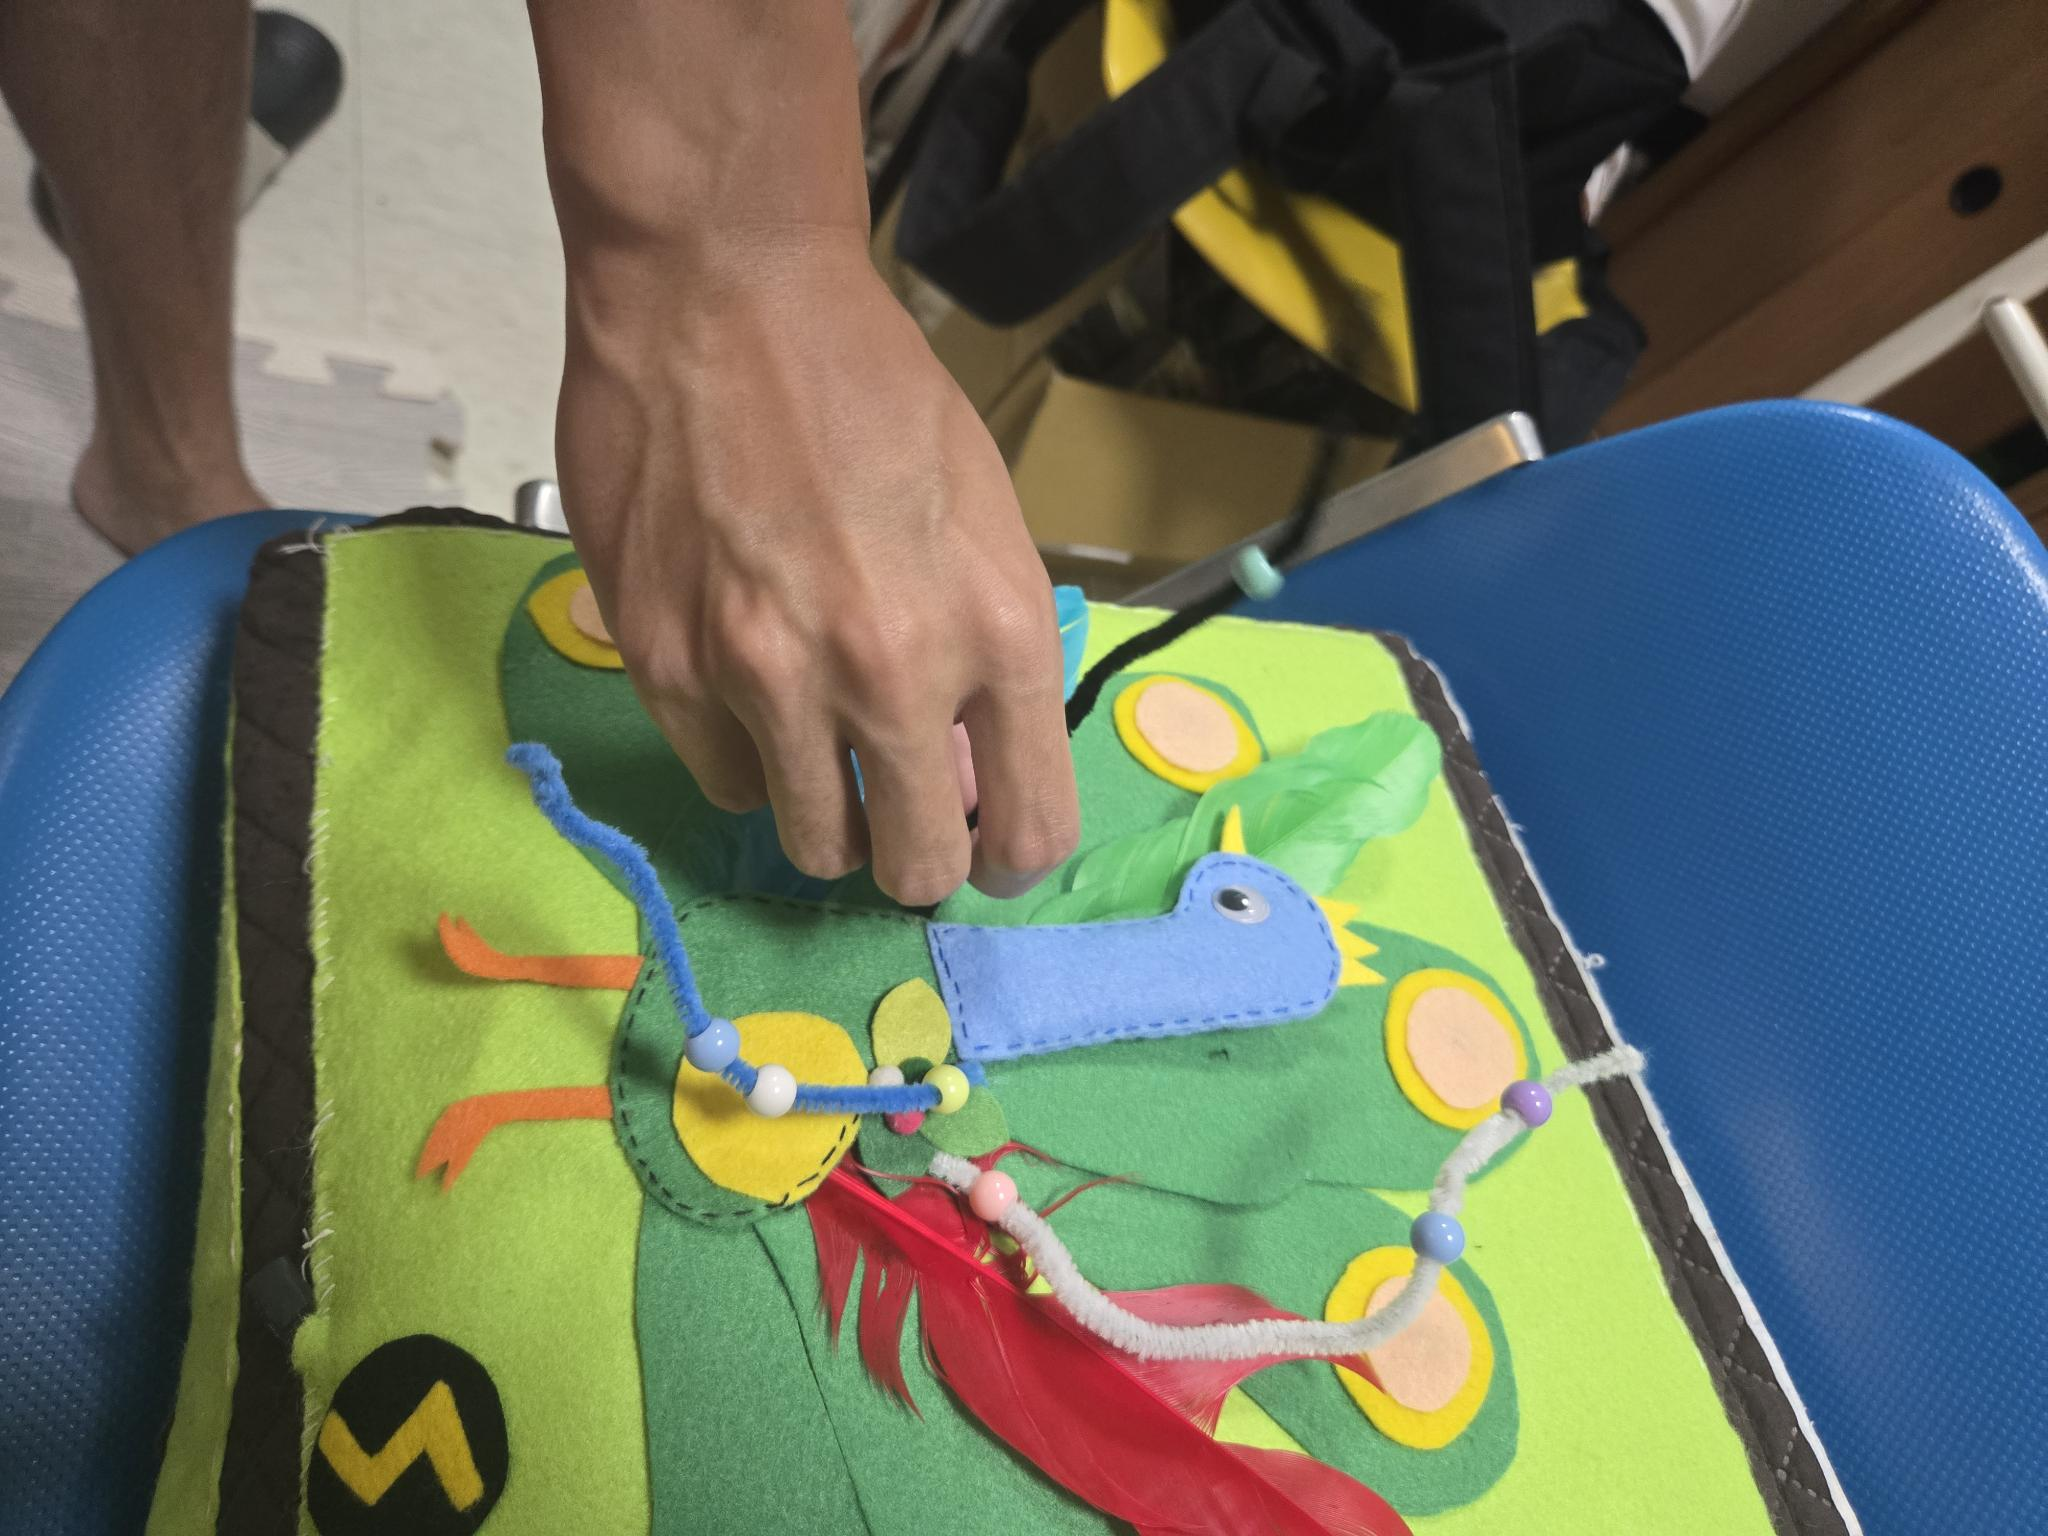bead: (1214, 520, 1292, 616), (1414, 1191, 1474, 1288), (1500, 1068, 1559, 1157), (916, 1047, 977, 1128), (963, 1155, 1024, 1231), (748, 1042, 803, 1126), (681, 1007, 740, 1079)
